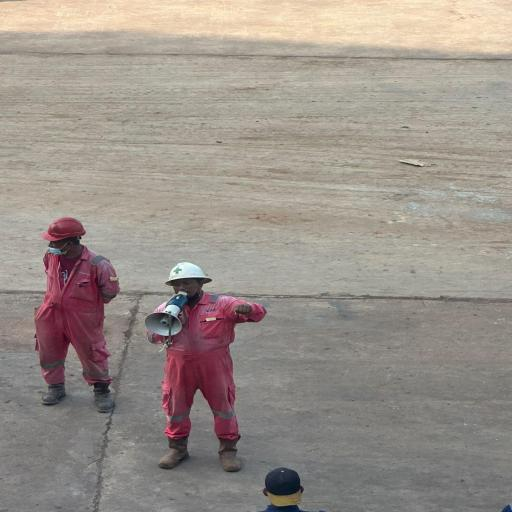safety_shoe: (32, 375, 74, 419), (153, 429, 194, 471), (212, 437, 248, 473), (86, 377, 118, 415)
